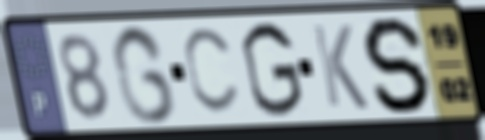8: (57, 30, 112, 122)
C: (180, 25, 243, 119)
G: (108, 22, 179, 127), (238, 19, 306, 120)
K: (309, 22, 372, 112)
S: (360, 14, 434, 115)
